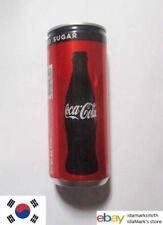metal: (48, 24, 110, 184)
